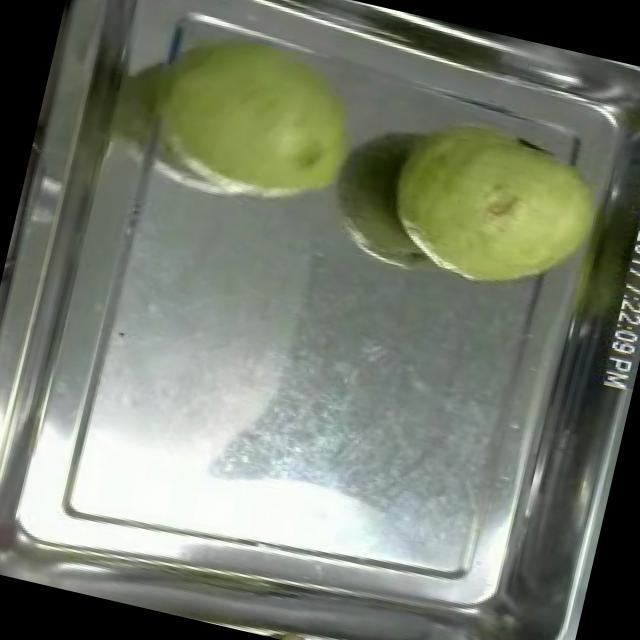Fruit: (114, 0, 387, 236), (363, 75, 627, 315)
